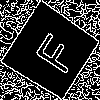F: (26, 26, 81, 77)
